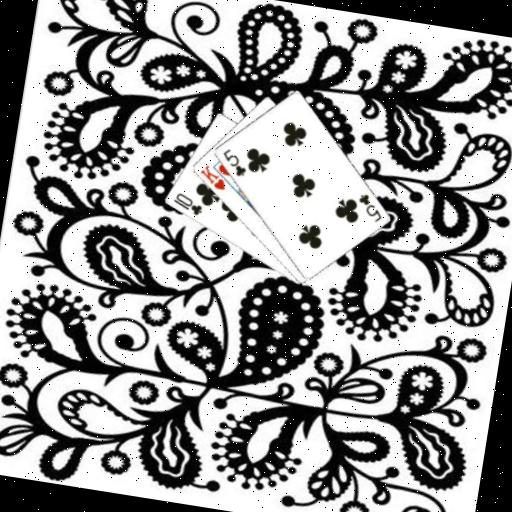10C: (168, 189, 205, 218)
5C: (216, 144, 250, 179), (352, 189, 386, 224)
KH: (195, 160, 230, 192)
